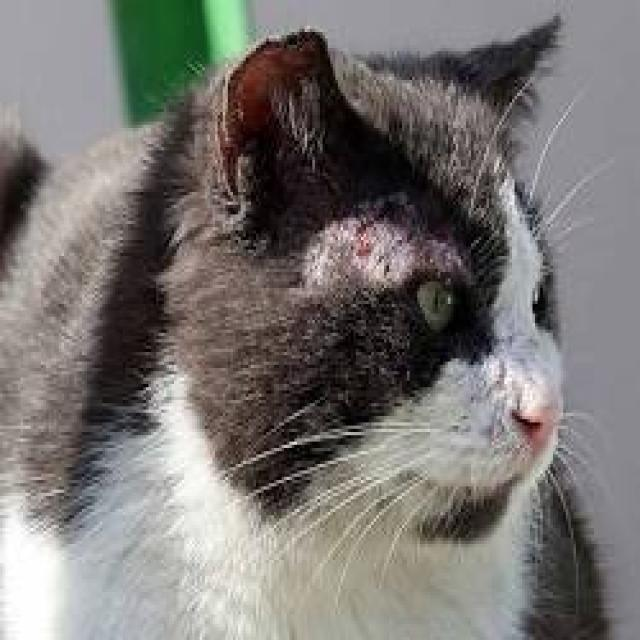cat-dermatitis: (331, 214, 431, 281)
